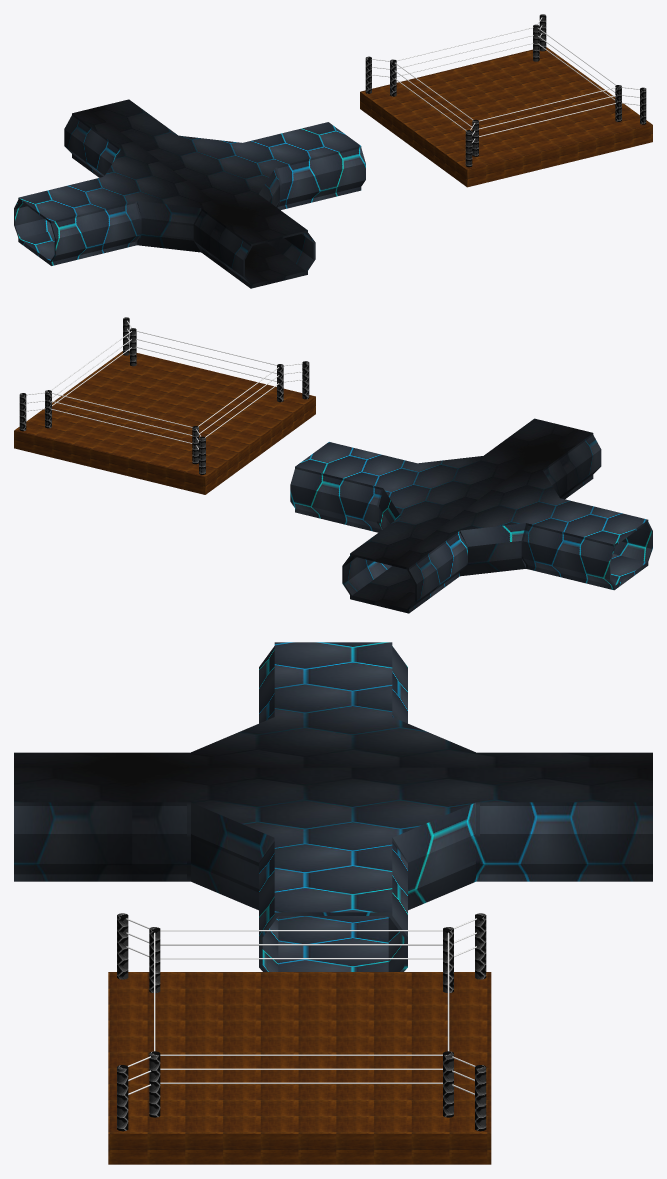
3 renders of one model, top to bottom at view 1: azimuth 30°, elevation 25°; view 2: azimuth 150°, elevation 25°; view 3: azimuth 270°, elevation 25°, orthographic. The views are drawn at different scales.
Visible parts, largest first — view 1: HFBXASC195FBXASC188lle, DefaultFBXASC032Hardwood; view 2: HFBXASC195FBXASC188lle, DefaultFBXASC032Hardwood; view 3: HFBXASC195FBXASC188lle, DefaultFBXASC032Hardwood.
Boxes of the visible parts, left/top/right/bottom form: HFBXASC195FBXASC188lle: left=14, top=99, right=365, bottom=288; DefaultFBXASC032Hardwood: left=360, top=14, right=652, bottom=187; HFBXASC195FBXASC188lle: left=290, top=418, right=652, bottom=613; DefaultFBXASC032Hardwood: left=14, top=317, right=315, bottom=494; HFBXASC195FBXASC188lle: left=14, top=642, right=652, bottom=971; DefaultFBXASC032Hardwood: left=108, top=913, right=491, bottom=1164.
Bounding box in the file's own units: 388 × 49.7 × 217.
4 materials, 3 textured.
